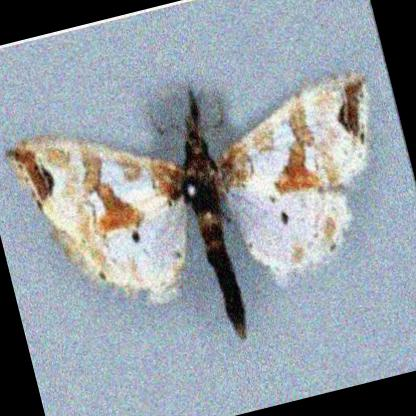leucinodes: (8, 83, 374, 339)
